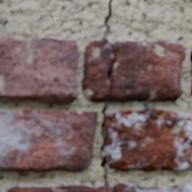brick: (0, 108, 96, 172), (106, 109, 191, 171), (0, 37, 76, 103)
broken_brick: (109, 39, 186, 103), (81, 39, 111, 102), (5, 184, 110, 191), (135, 182, 191, 191), (113, 182, 131, 191)
crack: (1, 0, 191, 191), (130, 186, 135, 191)
